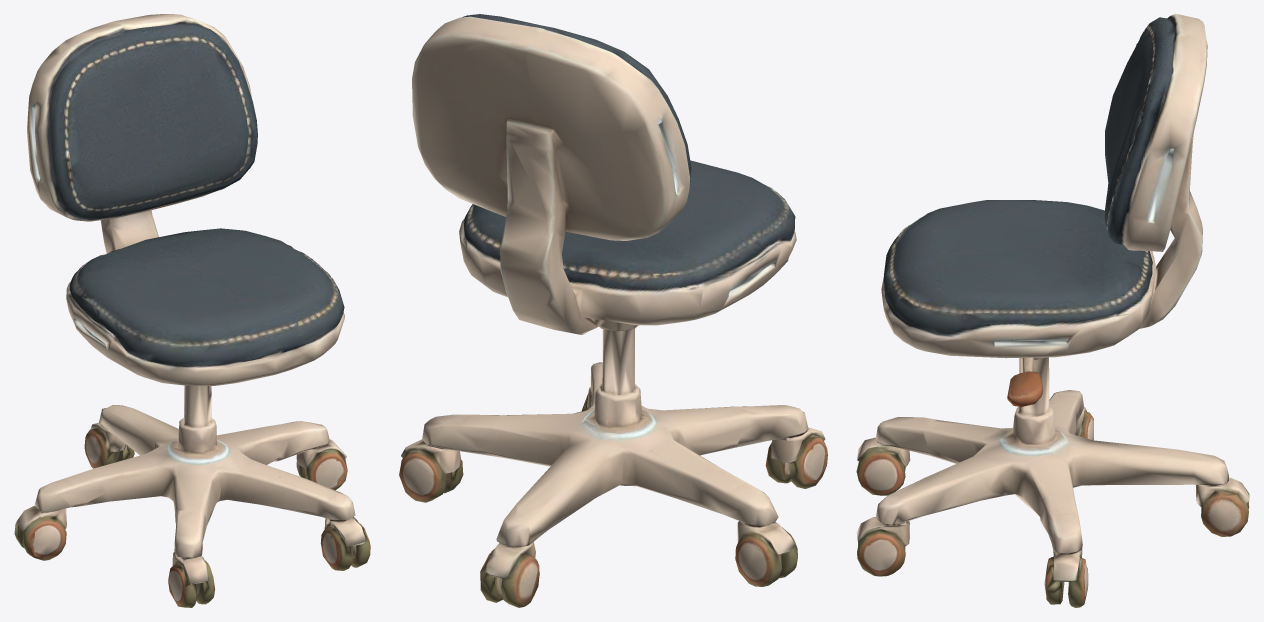
The model's file is desk-chair.low.glb.
3 views of the same model, side by side, from view 1: azimuth 30°, elevation 25°; view 2: azimuth 150°, elevation 25°; view 3: azimuth 270°, elevation 25° (orthographic). The views are drawn at different scales.
Visible parts, largest first — view 1: tripo_node_4ed78f29-c6da-4b96-9b46-568618544dfa; view 2: tripo_node_4ed78f29-c6da-4b96-9b46-568618544dfa; view 3: tripo_node_4ed78f29-c6da-4b96-9b46-568618544dfa.
Boxes of the visible parts, left/top/right/bottom form: tripo_node_4ed78f29-c6da-4b96-9b46-568618544dfa: left=14, top=14, right=370, bottom=607; tripo_node_4ed78f29-c6da-4b96-9b46-568618544dfa: left=399, top=14, right=827, bottom=607; tripo_node_4ed78f29-c6da-4b96-9b46-568618544dfa: left=856, top=14, right=1249, bottom=607.
Size of the model in its own units: 0.6263 by 0.8596 by 0.6198.
Materials: 1 (1 with a texture image).
